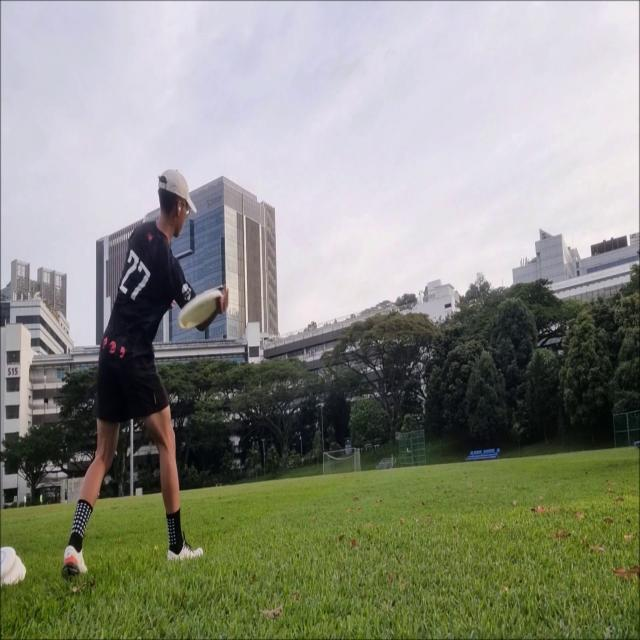disc: (177, 288, 223, 331)
